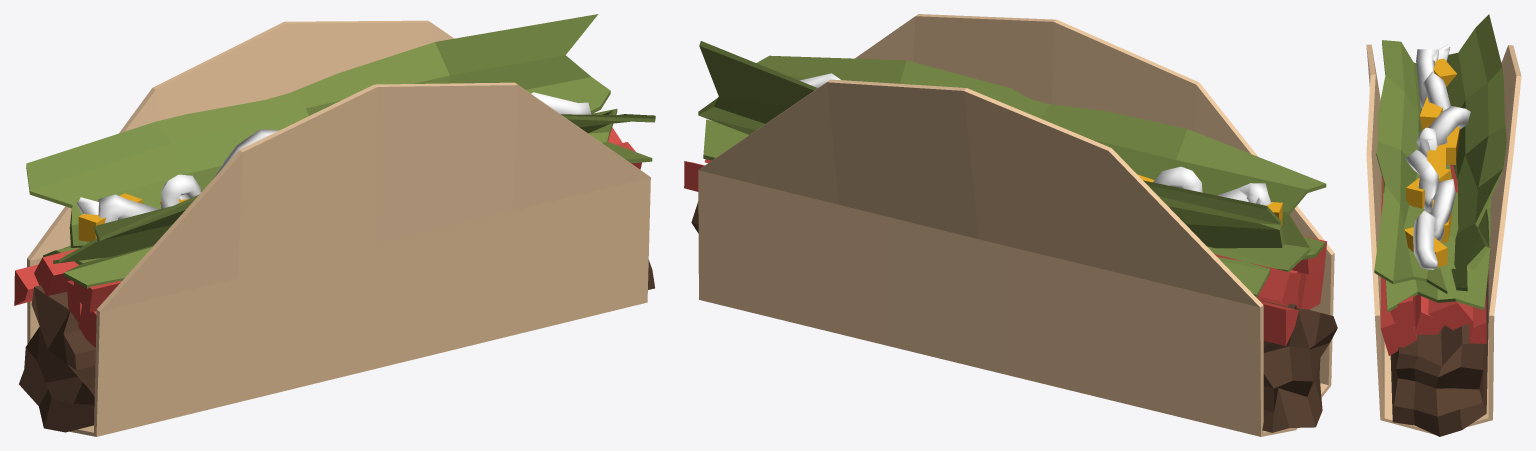
Rendered from Taco_01.fbx.
The picture shows the model from 3 angles, left to right: view 1: azimuth 30°, elevation 25°; view 2: azimuth 150°, elevation 25°; view 3: azimuth 270°, elevation 25°; orthographic projection. The views are drawn at different scales.
Parts seen in each view (by area): view 1: Taco_01; view 2: Taco_01; view 3: Taco_01.
Boxes of the visible parts, <box> form: Taco_01: <box>14,14,655,436</box>; Taco_01: <box>684,14,1337,436</box>; Taco_01: <box>1366,14,1521,436</box>.
Size of the model in its own units: 26.6 by 13.07 by 7.34.
